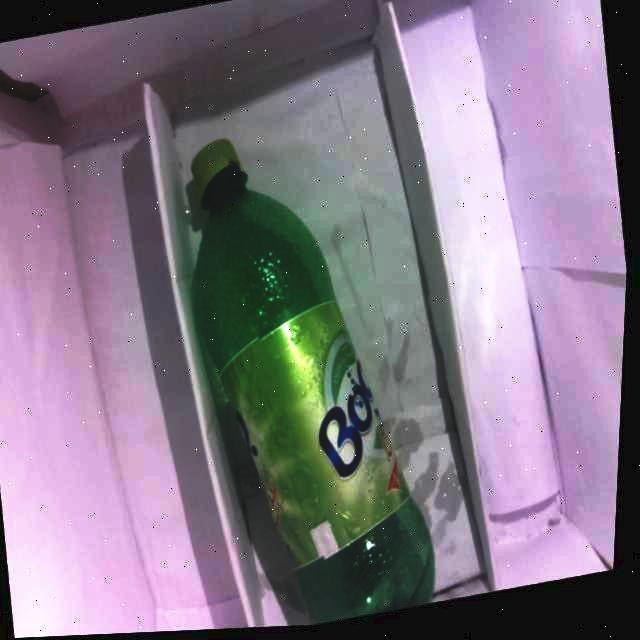chai: (188, 139, 434, 620)
